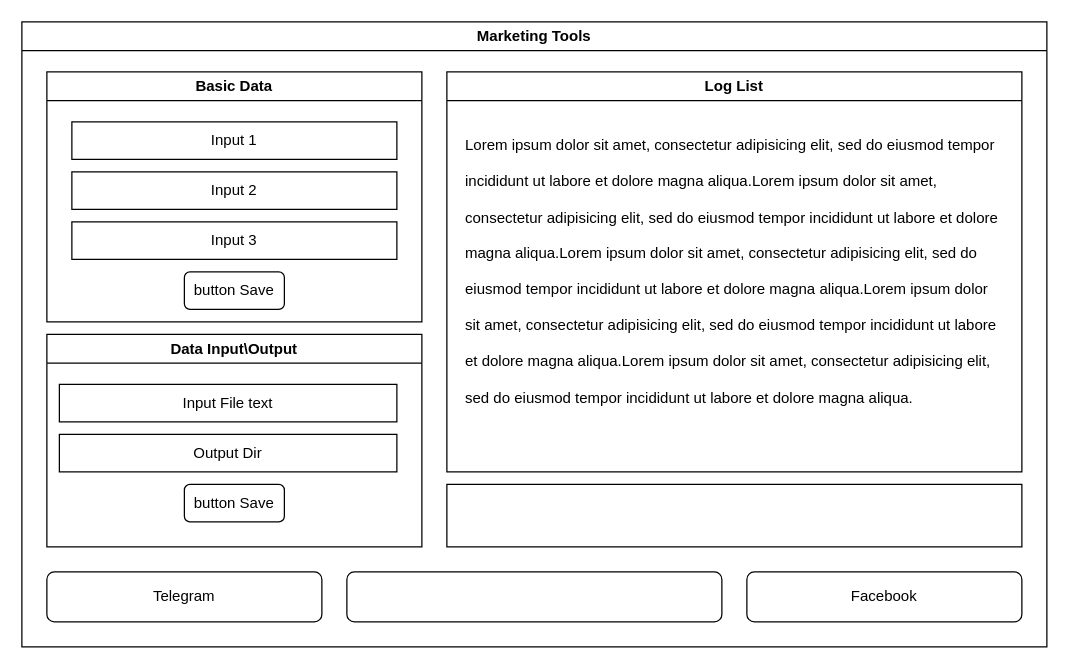
The diagram is 1069 pixels wide and 669 high, and some of its shapes have lost their labels. The centre of each missing label's shape, as x and y in pixels:
Error Messags: the point at 734,515
WhatsApp: the point at 534,596
